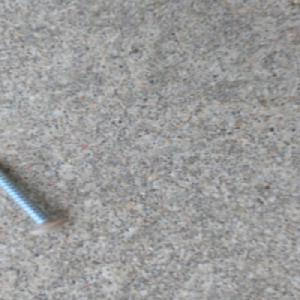Screw: (0, 161, 72, 236)
